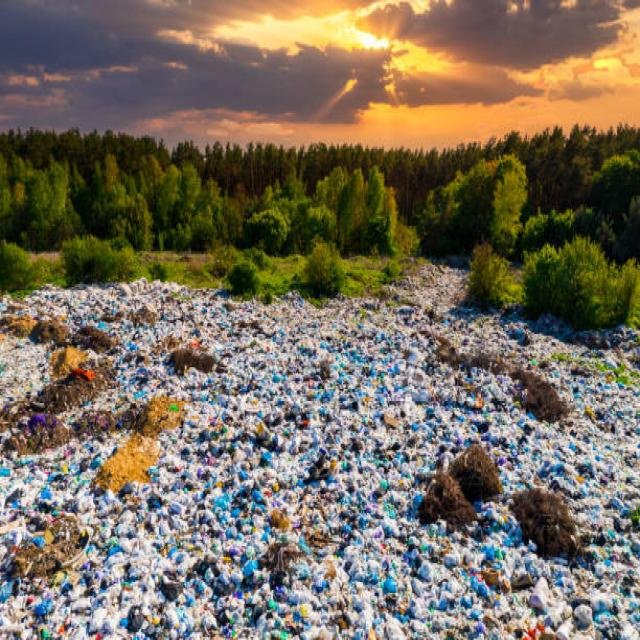trash: (43, 285, 602, 593)
